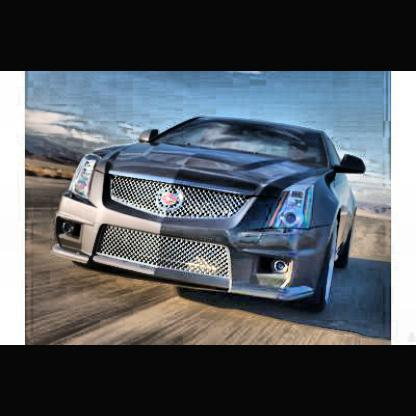Cadillac CTS-V Sedan 2012: (51, 113, 368, 321)
